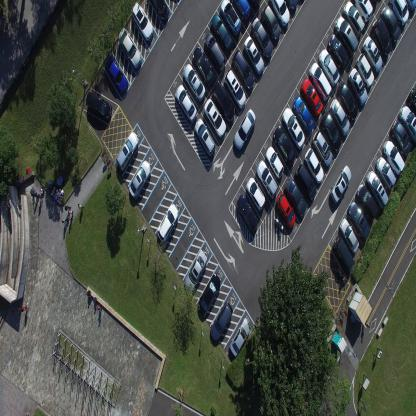car: (183, 249, 208, 294), (117, 27, 142, 70), (198, 272, 221, 318), (281, 106, 305, 149), (212, 78, 235, 122), (233, 107, 256, 151), (272, 124, 296, 166), (104, 53, 128, 95), (334, 16, 359, 56), (115, 131, 139, 172), (127, 160, 151, 201), (192, 45, 215, 87), (250, 16, 273, 58), (130, 1, 154, 41), (210, 300, 233, 341), (366, 169, 389, 210), (309, 61, 332, 102), (229, 316, 251, 358), (224, 67, 246, 109), (210, 12, 232, 54), (203, 96, 226, 136), (236, 194, 259, 234), (285, 176, 307, 217), (301, 77, 323, 118), (204, 31, 226, 72), (182, 62, 205, 101), (320, 110, 341, 152), (156, 203, 178, 243), (256, 159, 278, 199), (332, 236, 354, 276), (330, 164, 352, 204), (318, 48, 340, 88), (242, 35, 264, 75), (232, 48, 254, 88), (193, 118, 216, 156), (292, 96, 315, 134), (356, 182, 378, 221), (348, 201, 370, 240), (175, 83, 197, 122), (342, 1, 365, 38), (337, 80, 358, 120), (380, 4, 401, 43), (295, 162, 317, 199), (383, 138, 405, 175), (85, 90, 112, 120), (362, 34, 383, 72), (328, 34, 349, 71), (260, 3, 281, 40), (276, 190, 296, 228), (330, 97, 350, 135), (373, 16, 392, 56), (391, 119, 412, 155), (312, 130, 333, 166), (375, 155, 397, 189), (220, 0, 241, 35), (305, 146, 324, 184), (349, 67, 368, 105), (339, 217, 359, 253), (398, 105, 416, 143), (247, 176, 266, 211), (356, 52, 374, 88), (266, 144, 284, 178), (268, 0, 290, 27), (388, 0, 409, 27), (146, 0, 169, 22), (352, 0, 373, 23), (230, 0, 251, 21), (407, 86, 416, 117), (285, 0, 298, 13), (404, 0, 416, 12), (247, 0, 262, 7)
